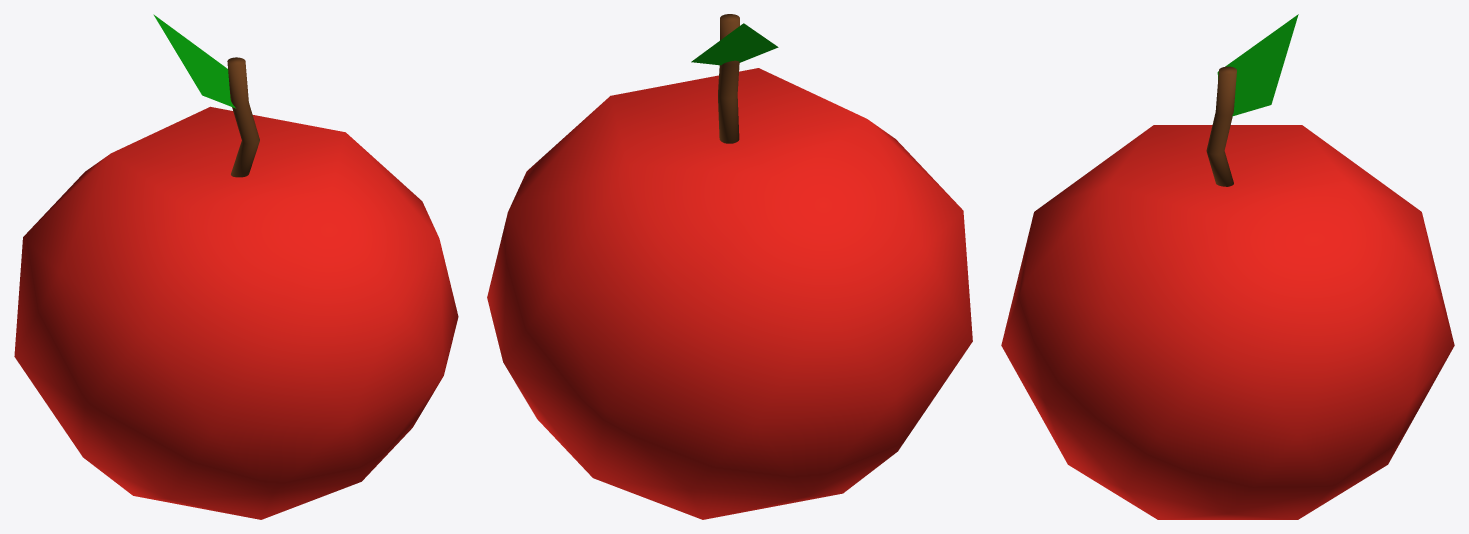
The model's file is apple.fbx.
3 views of the same model, side by side, from view 1: azimuth 30°, elevation 25°; view 2: azimuth 150°, elevation 25°; view 3: azimuth 270°, elevation 25° (orthographic). The views are drawn at different scales.
Visible parts, largest first — view 1: Icosphere; view 2: Icosphere; view 3: Icosphere.
Part boxes in pixels (x1,y1,x2,y2): Icosphere: (14,14,458,519); Icosphere: (487,14,972,519); Icosphere: (1001,14,1454,519).
Bounding box in the file's own units: 190 × 230 × 200.
